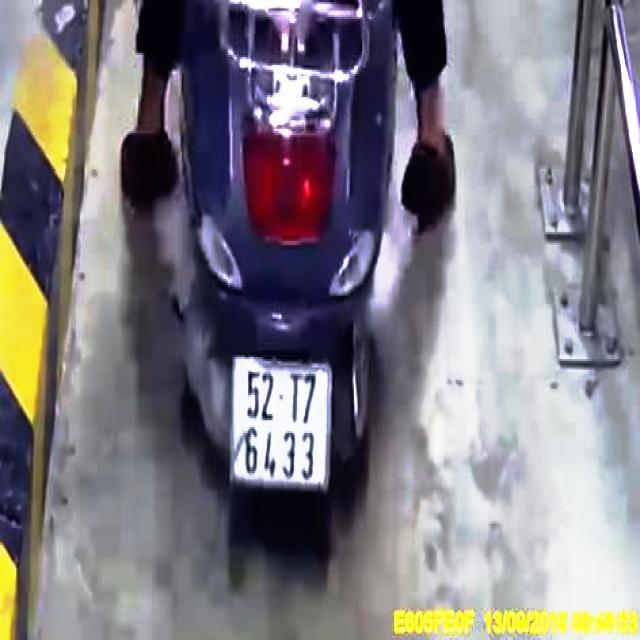license_plate: (230, 357, 332, 494)
